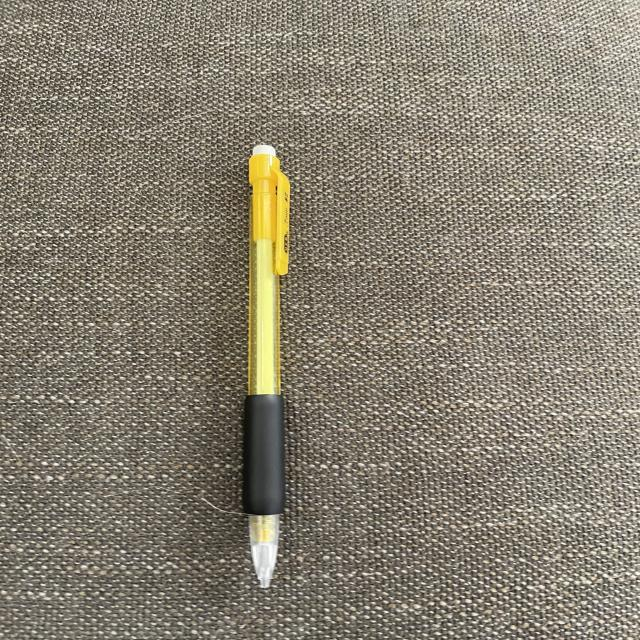mechanical-pencils: (251, 144, 290, 590)
